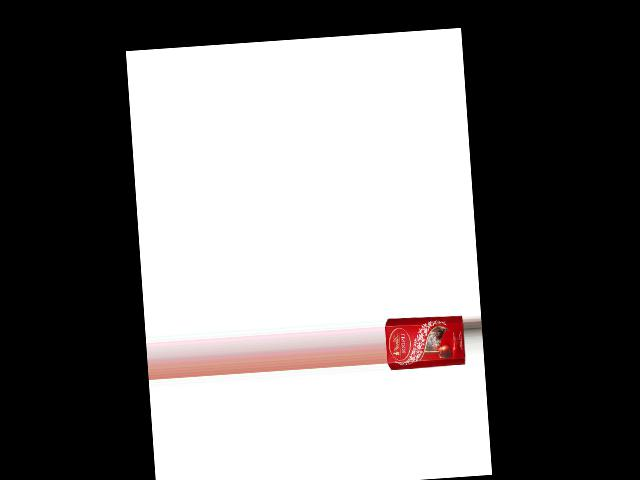chocolate: (384, 312, 466, 374)
